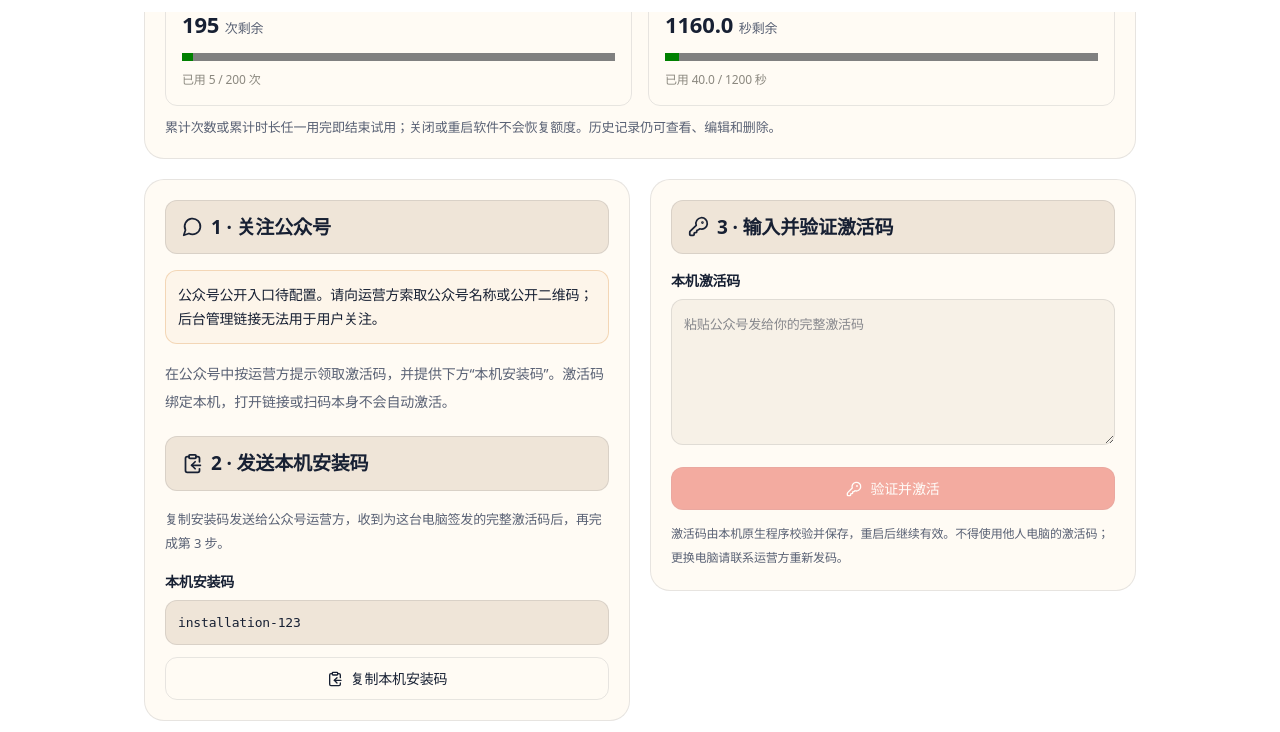
Test: active account route is native activation › shows rejection without removing remaining trial or granting activation
(page scrolled)
Expected: the field showing "installation-123" is shown, [165,600,609,645]
Type "wrong-device-code" into the text box labelled "本机激活码".
click(893, 372); type("wrong-device-code")  # box [671,299,1115,445]
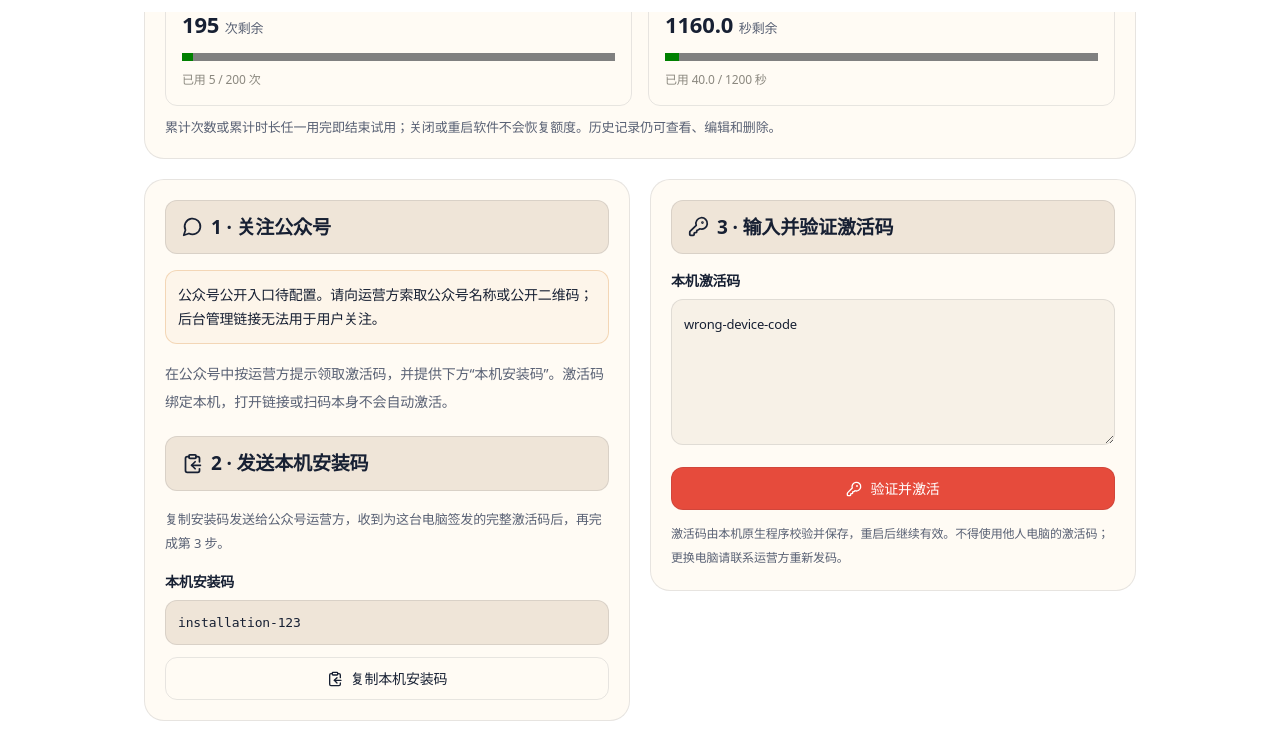
Click the button "验证并激活".
click(893, 488)  # box [671,467,1115,510]
(page scrolled)
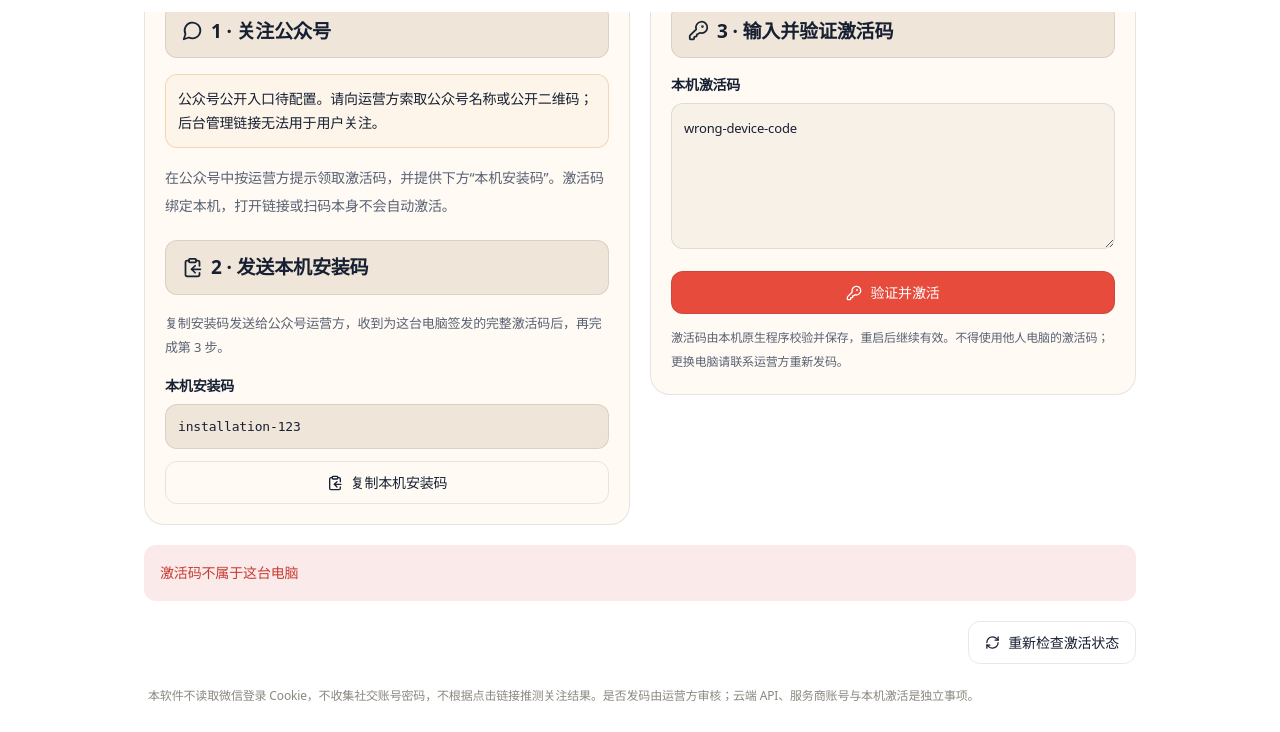
Now the message shows "不属于这台电脑", box [160,563,298,582]
